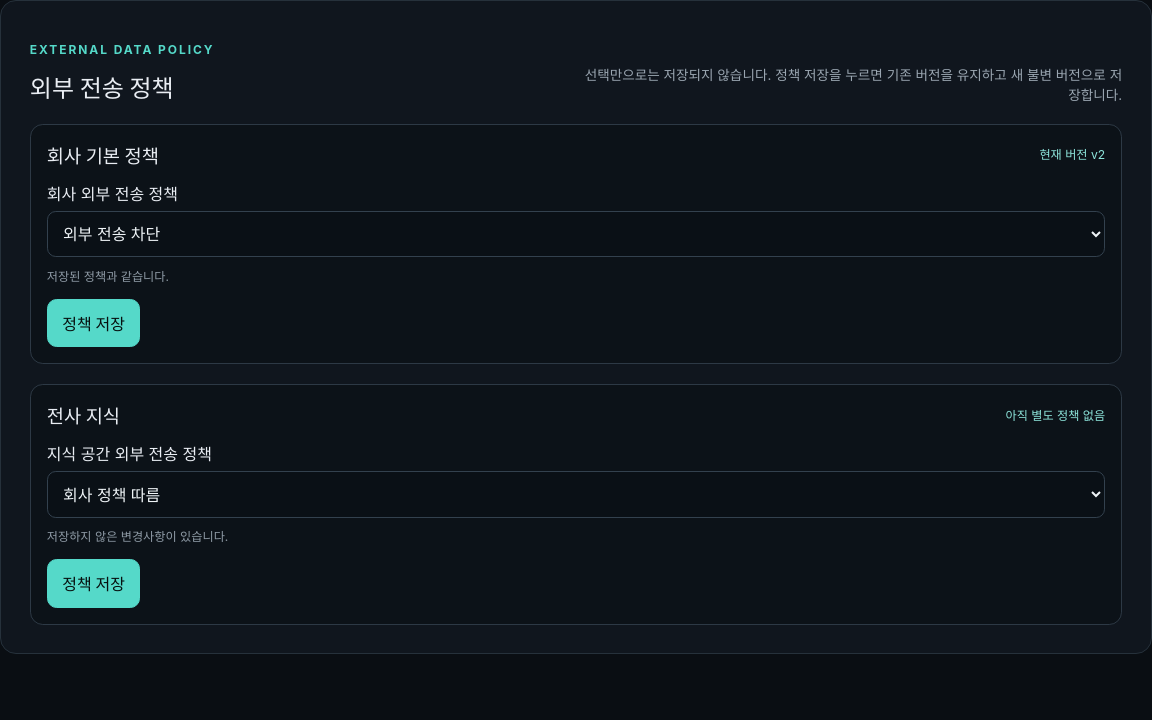
Test: DataPolicyPanel › allows the first Workspace policy version when no current version exists
Check: the text "아직 별도 정책 없음" is shown, box [1006, 406, 1105, 424]
Click the button with aria-label "전사 지식 정책 저장". click: (94, 583)
box: [47, 559, 140, 608]
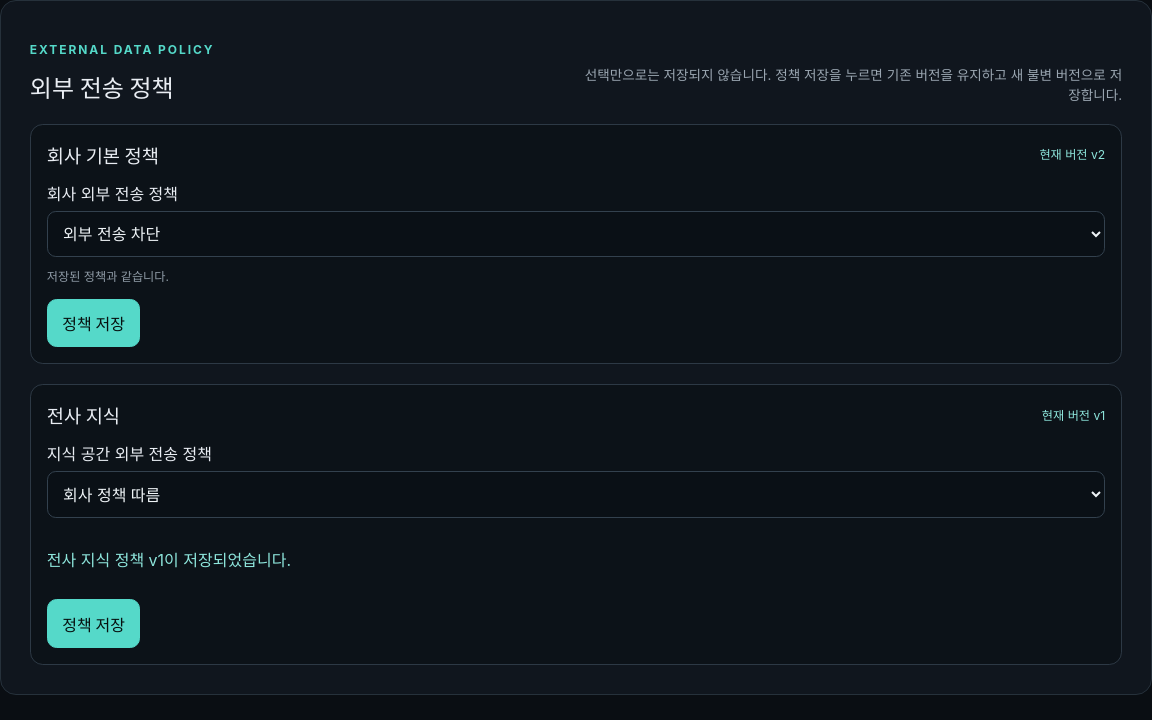
Check: the text "전사 지식 정책 v1이 저장되었습니다." is shown, box [47, 550, 291, 570]
